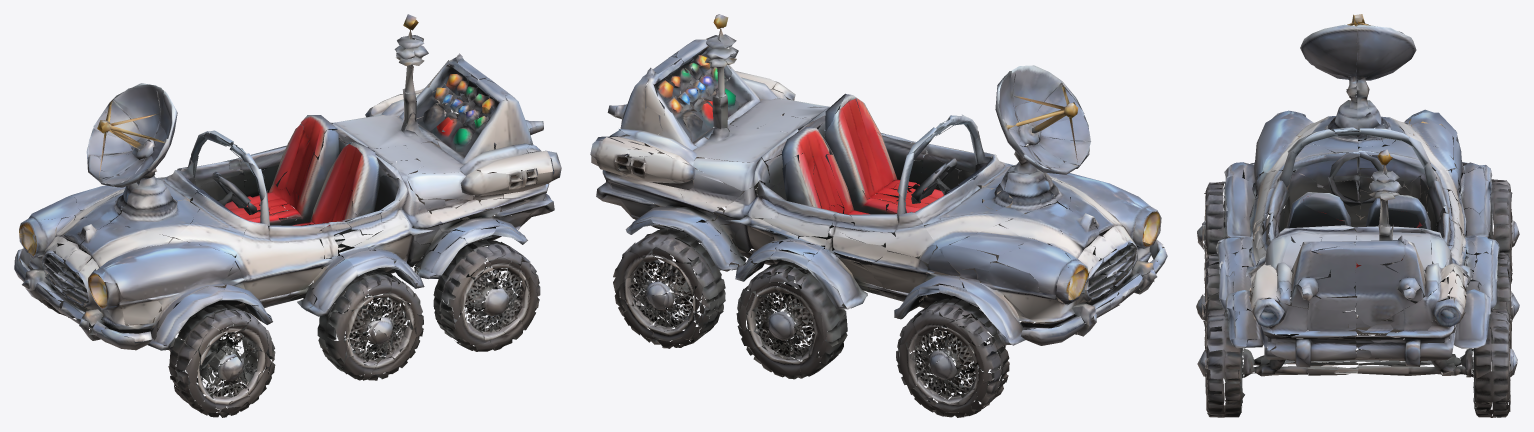
3 views of the same model, side by side, from view 1: azimuth 30°, elevation 25°; view 2: azimuth 150°, elevation 25°; view 3: azimuth 270°, elevation 25° (orthographic). The views are drawn at different scales.
Parts seen in each view (by area): view 1: tripo_node_66f62897-9b11-42f4-bcc2-53c24214cf25; view 2: tripo_node_66f62897-9b11-42f4-bcc2-53c24214cf25; view 3: tripo_node_66f62897-9b11-42f4-bcc2-53c24214cf25.
Boxes of the visible parts, x1=… form: tripo_node_66f62897-9b11-42f4-bcc2-53c24214cf25: x1=14, y1=14, x2=561, y2=417; tripo_node_66f62897-9b11-42f4-bcc2-53c24214cf25: x1=590, y1=14, x2=1167, y2=417; tripo_node_66f62897-9b11-42f4-bcc2-53c24214cf25: x1=1196, y1=14, x2=1519, y2=417.
Bounding box in the file's own units: 0.9797 × 0.5451 × 0.5995.
Materials: 1 (1 with a texture image).
